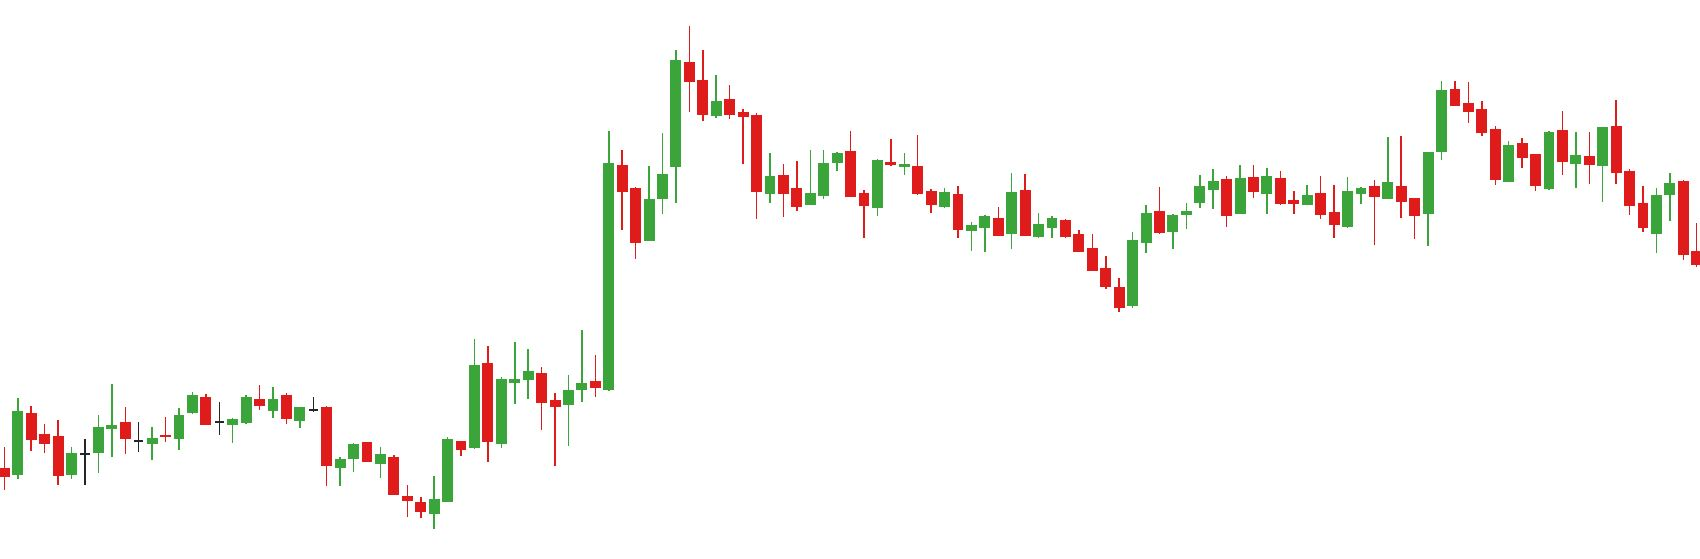buy: (482, 382, 562, 464)
